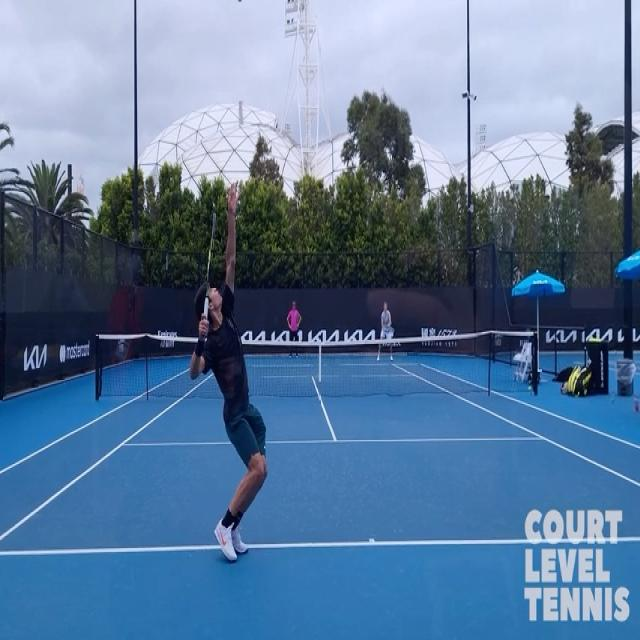serve_toss: (174, 178, 272, 580)
